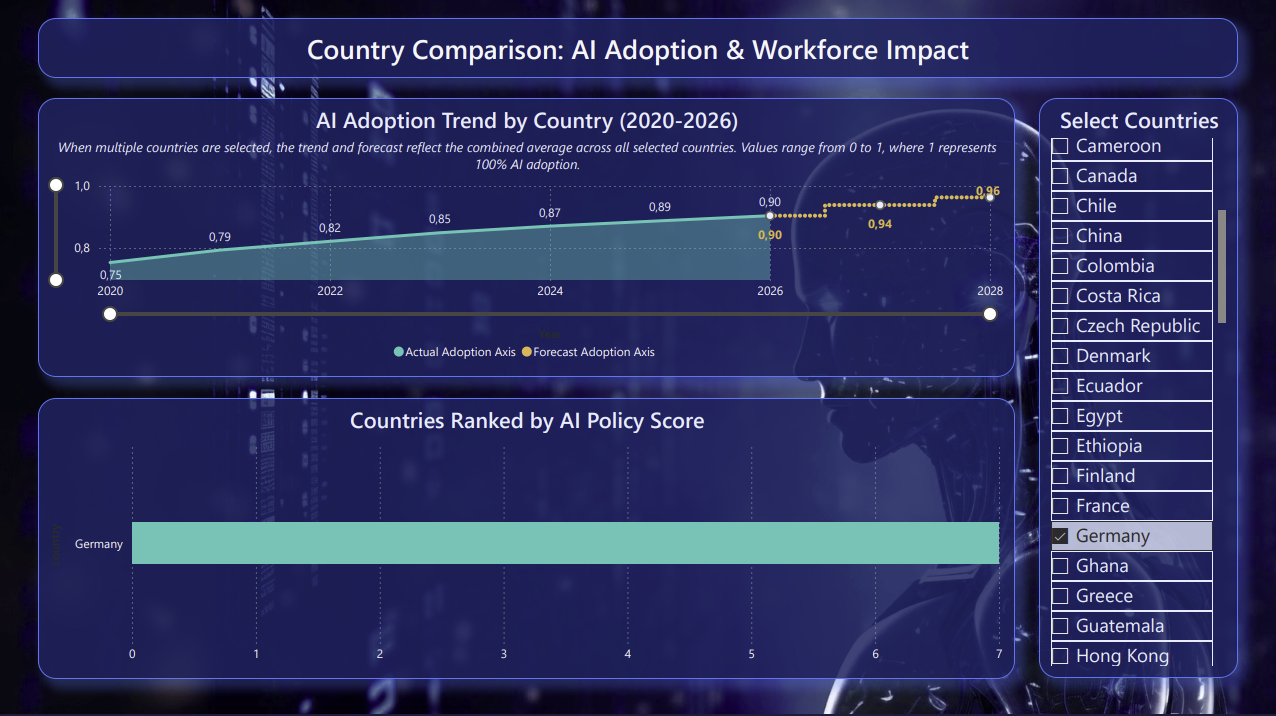

Layout of this report page (visuals, bound fields, positions):
{"tool":"powerbi","page":{"name":"Country Comparison","canvas":[1280,720],"ordinal":3},"visuals":[{"type":"listSlicer","title":"Select Countries","fields":{"Values":["Country.country"]},"box":[1040.9,99.9,198.7,580.5],"z":0},{"type":"lineChart","title":"AI Adoption Trend by Country (2020-2026)","fields":{"Category":["ForecastAxis.Year"],"Y":["ai_workforce_displacement_global_2020_2026.Actual Adoption Axis","ai_workforce_displacement_global_2020_2026.Forecast Adoption Axis"]},"box":[40.4,99.9,976.7,279.6],"z":1000},{"type":"clusteredBarChart","title":"Countries Ranked by AI Policy Score","fields":{"Category":["Country.country"],"Y":["ai_workforce_displacement_global_2020_2026.Avg Govt AI Policy Score"]},"box":[40.4,400,976.7,280.7],"z":2000},{"type":"textbox","box":[40,20,1200,60],"z":3000}]}

Visuals, with their boxes in screenshot pixels (x1, y1, x2, y2), scaled from the page's 1280x720 canvas onto the 1276x716 screenshot:
"Select Countries" listSlicer: {"left": 1038, "top": 99, "right": 1236, "bottom": 677}
"AI Adoption Trend by Country (2020-2026)" lineChart: {"left": 40, "top": 99, "right": 1014, "bottom": 377}
"Countries Ranked by AI Policy Score" clusteredBarChart: {"left": 40, "top": 398, "right": 1014, "bottom": 677}
textbox: {"left": 40, "top": 20, "right": 1236, "bottom": 80}
